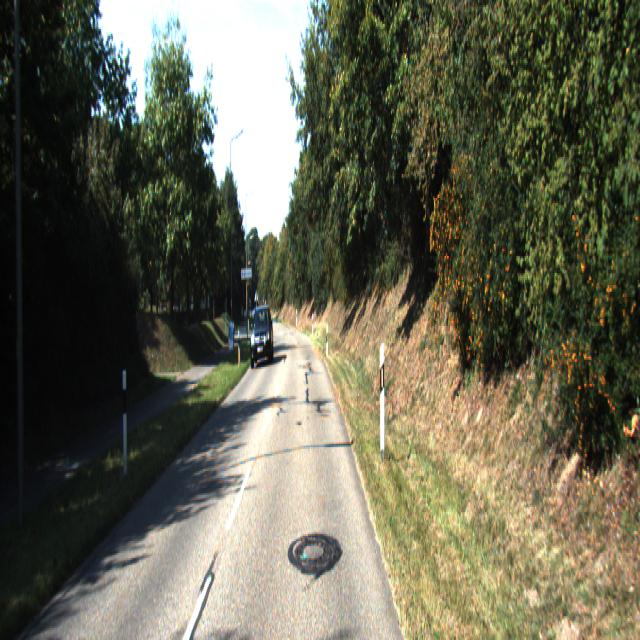Car: (250, 304, 274, 370)
